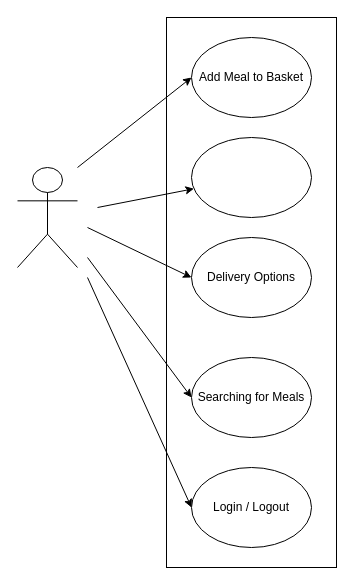
Some shapes in this 354 by 585 pixel diagram are drawn without their labels. The shapes that lost their labels are listed below. From the top down, each one's centre as x and y in pixels, then its label:
the point at 251,177: Ordering Meal
the point at 47,217: User
